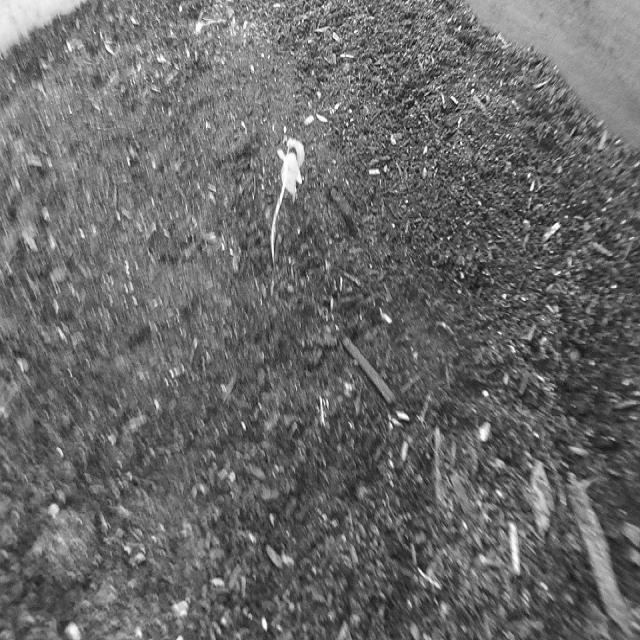Unhealthy: (271, 135, 306, 267)
